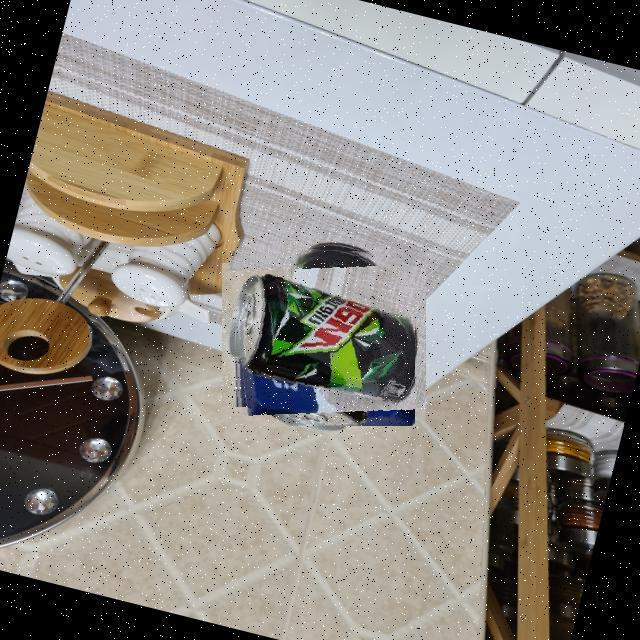recyclable: (233, 245, 415, 426)
